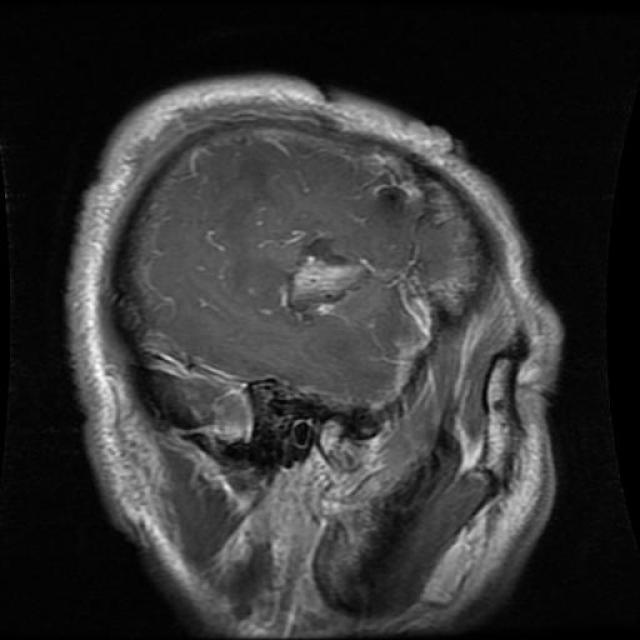glioma: (278, 240, 392, 326)
